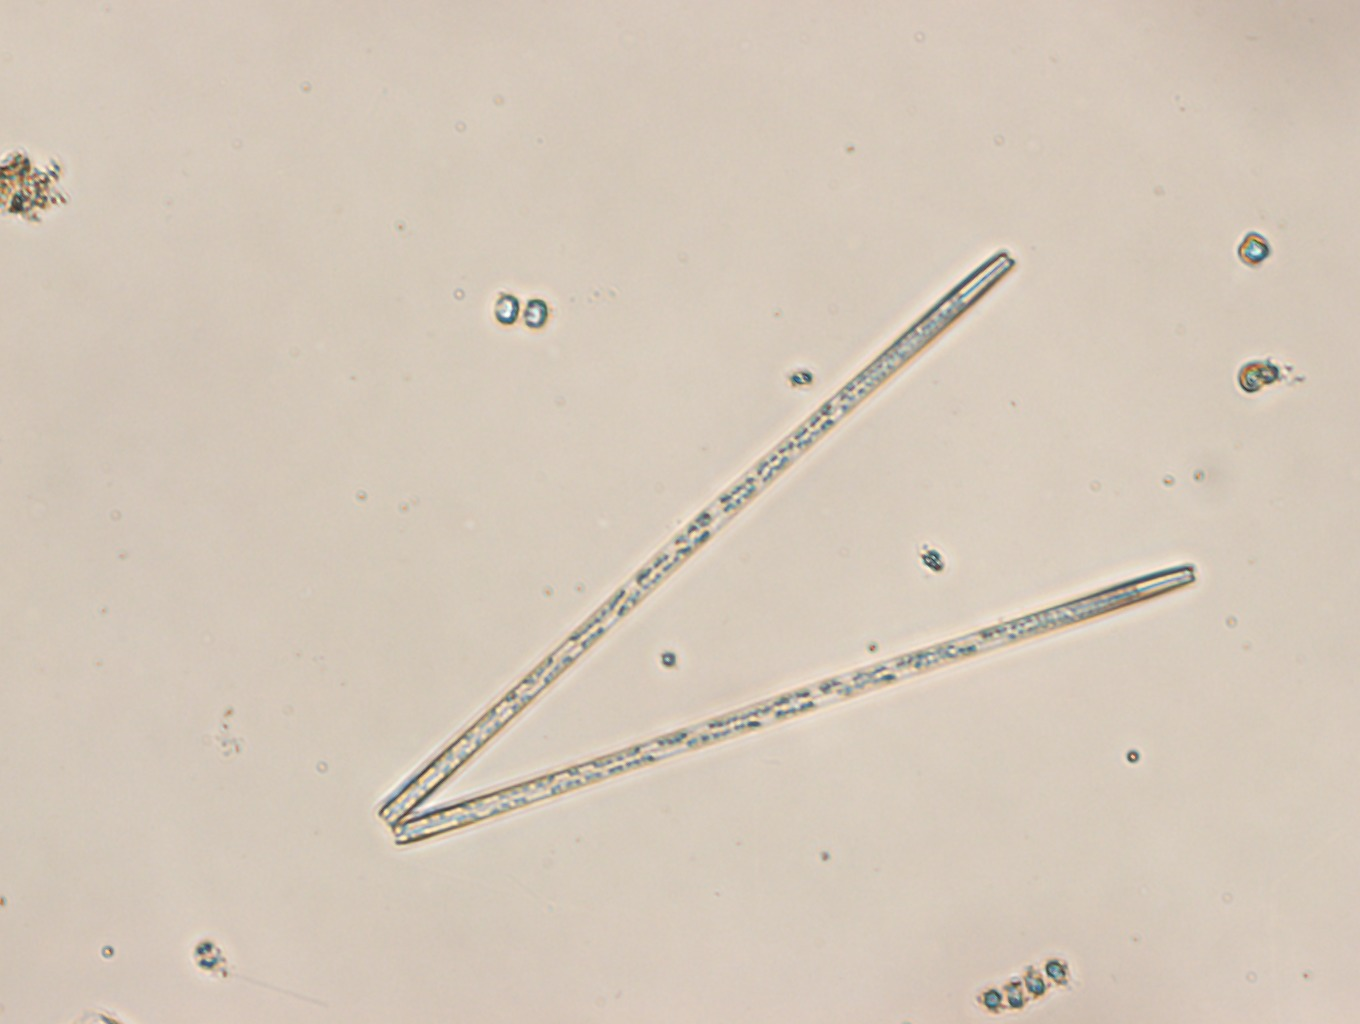thalassionema frauenfeldii: (376, 250, 1196, 845)
